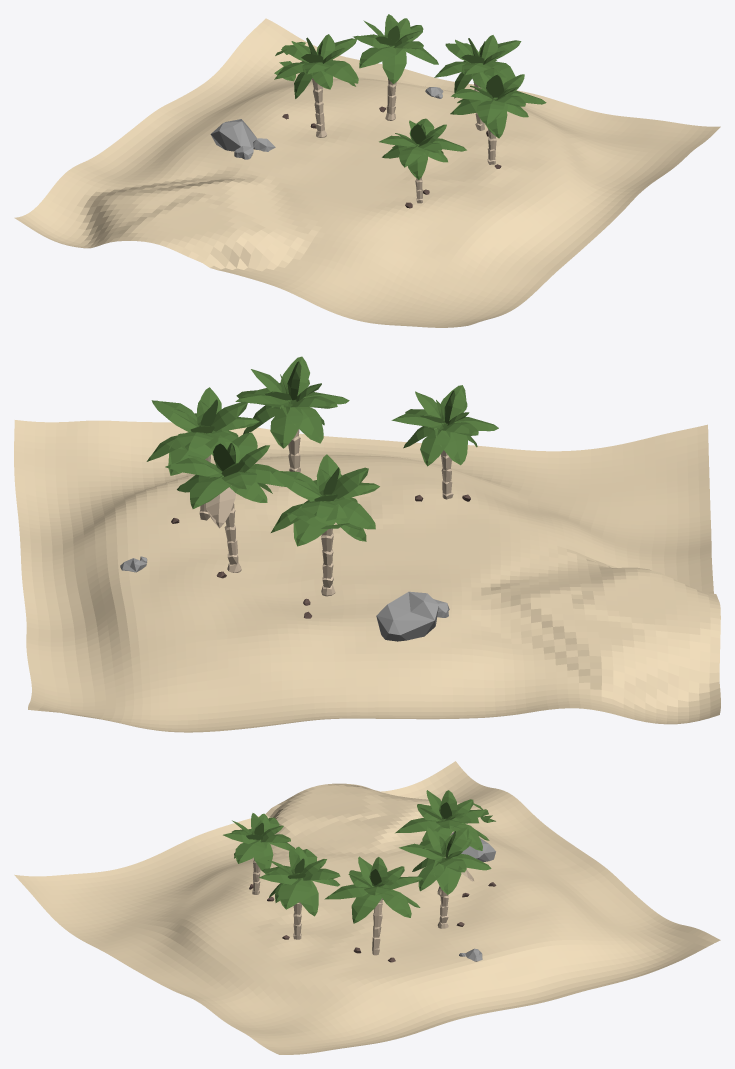
Rendered from island.glb.
3 renders of one model, top to bottom at view 1: azimuth 30°, elevation 25°; view 2: azimuth 150°, elevation 25°; view 3: azimuth 270°, elevation 25°, orthographic. The views are drawn at different scales.
Visible parts, largest first — view 1: Island_recieve, Palm_cast_recieve, Rocks_cast; view 2: Island_recieve, Palm_cast_recieve, Rocks_cast; view 3: Island_recieve, Palm_cast_recieve, Rocks_cast.
Boxes of the visible parts, bbox=[...] form: Island_recieve: bbox=[14, 18, 720, 327]; Palm_cast_recieve: bbox=[274, 14, 546, 203]; Rocks_cast: bbox=[210, 87, 443, 159]; Island_recieve: bbox=[14, 420, 720, 732]; Palm_cast_recieve: bbox=[146, 356, 498, 596]; Rocks_cast: bbox=[120, 556, 449, 641]; Island_recieve: bbox=[14, 761, 720, 1054]; Palm_cast_recieve: bbox=[223, 790, 495, 955]; Rocks_cast: bbox=[451, 832, 495, 961].
Size of what is drawn, in the model's own units: 41.82 by 8.92 by 41.75.
